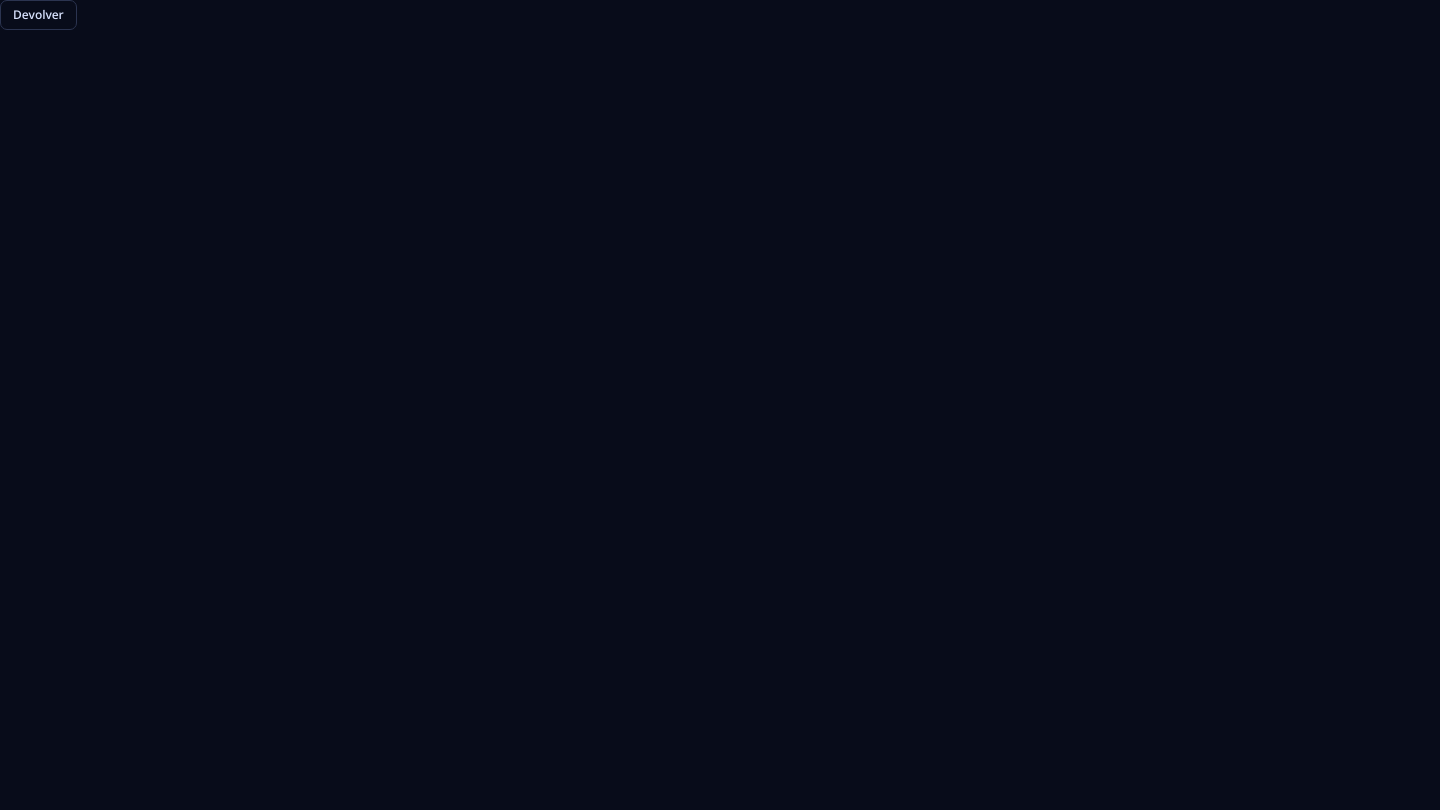
Scenario: test_ca_03_spec005_cancelar_devolucao_nao_grava
Click the button "Devolver". click: (38, 15)
box: [0, 0, 77, 30]
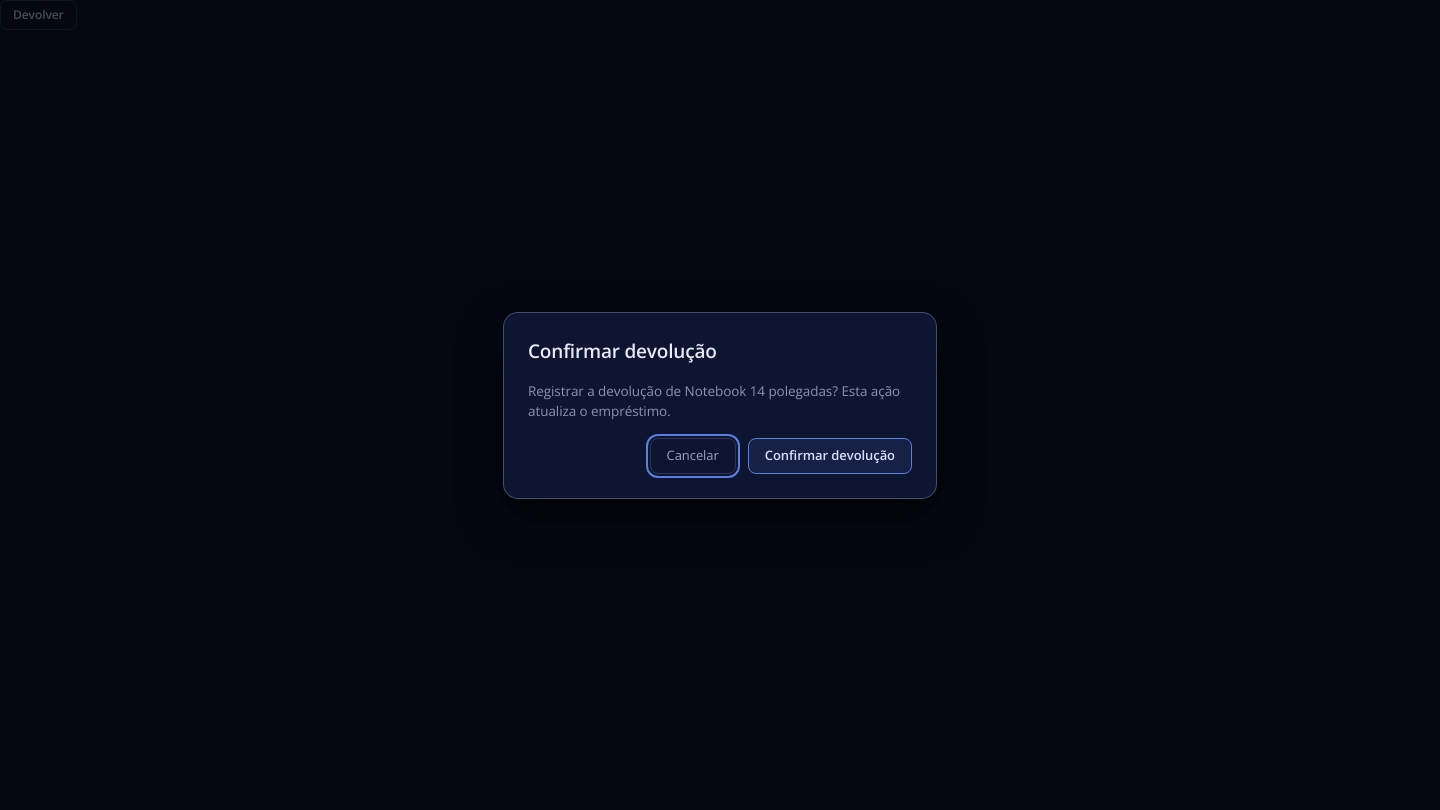
Click the button "Cancelar". click: (693, 456)
box: [650, 438, 736, 474]
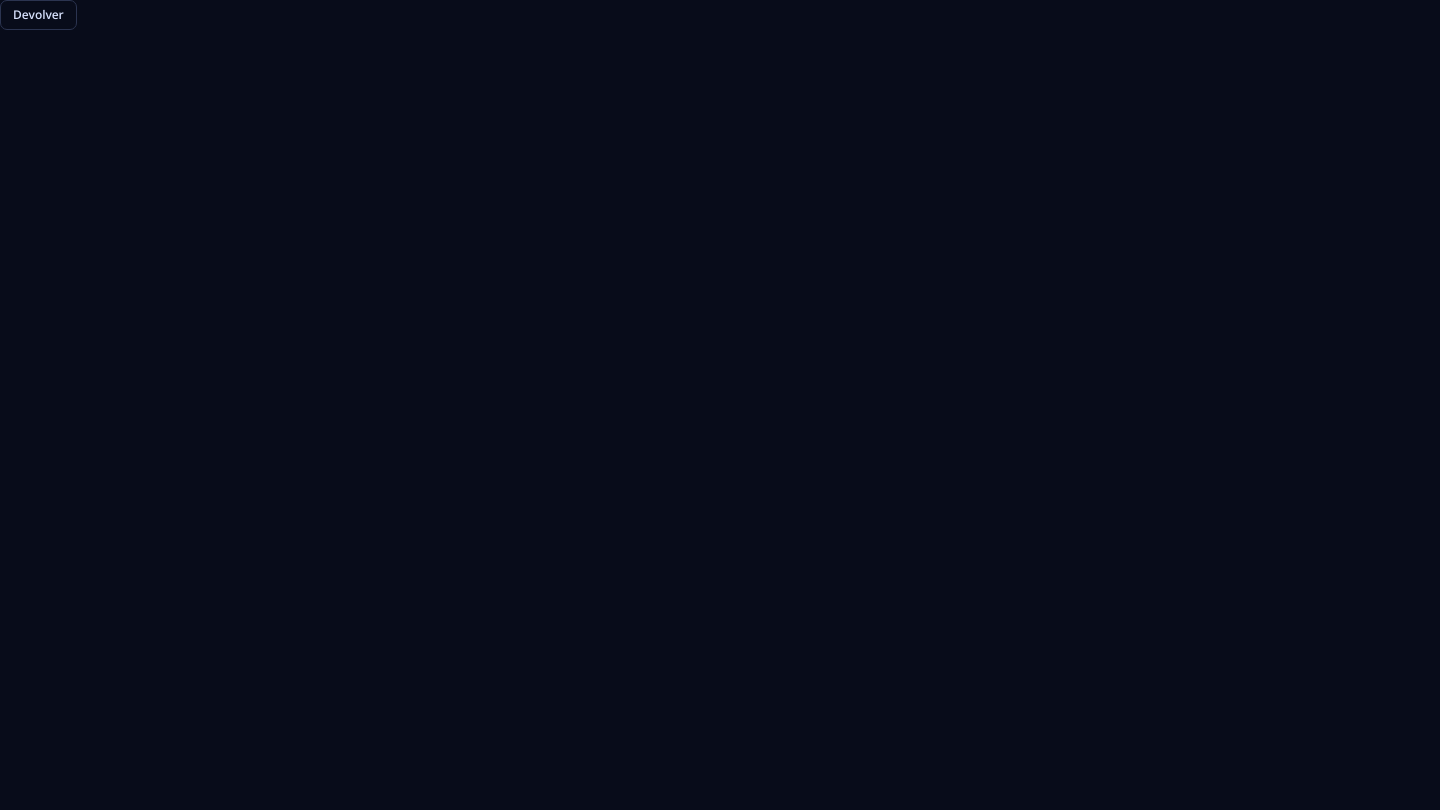
Now the dialog is gone
